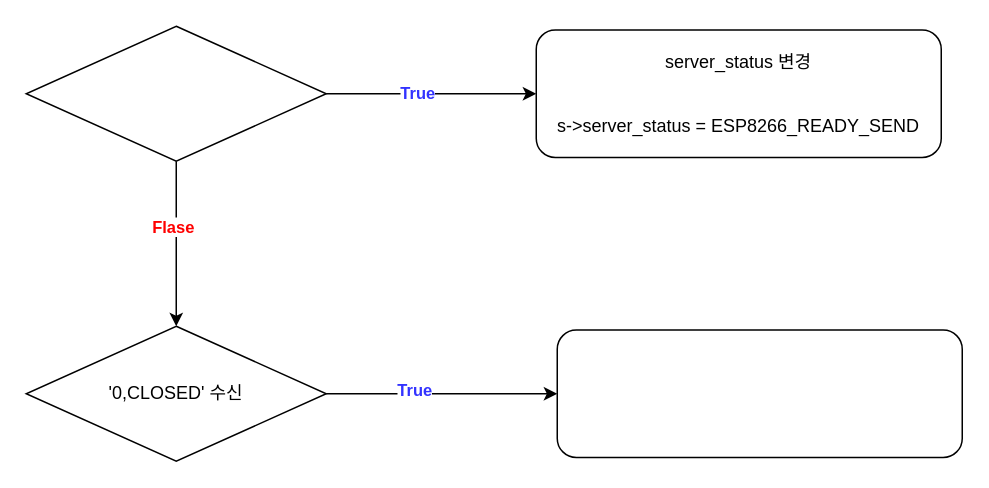
The diagram is 989 pixels wide and 488 high, and some of its shapes have lost their labels. Here are the shapes that lost their labels. From the top down, the centre of each, then its label:
At (x=175, y=93): "'+ready' 수신".
At (x=759, y=393): "server_status 변경 s->server_status = ESP8266_DEVICE_WAIT".
